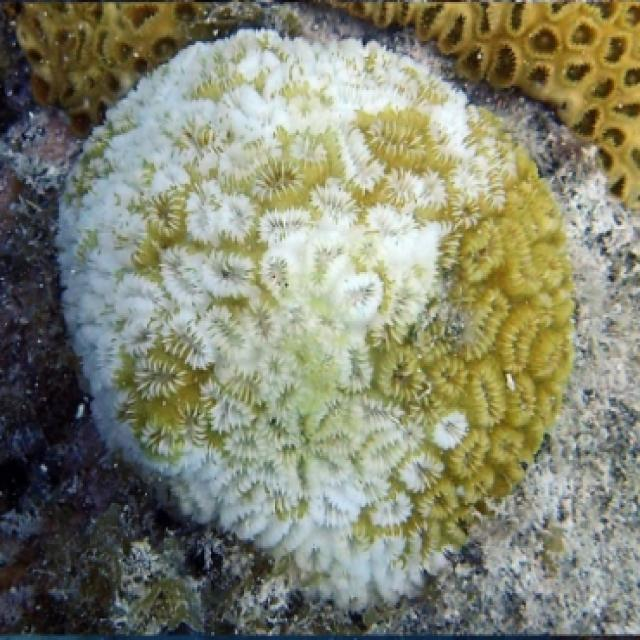Coral: (53, 26, 581, 618), (304, 0, 640, 210), (5, 0, 206, 138)
